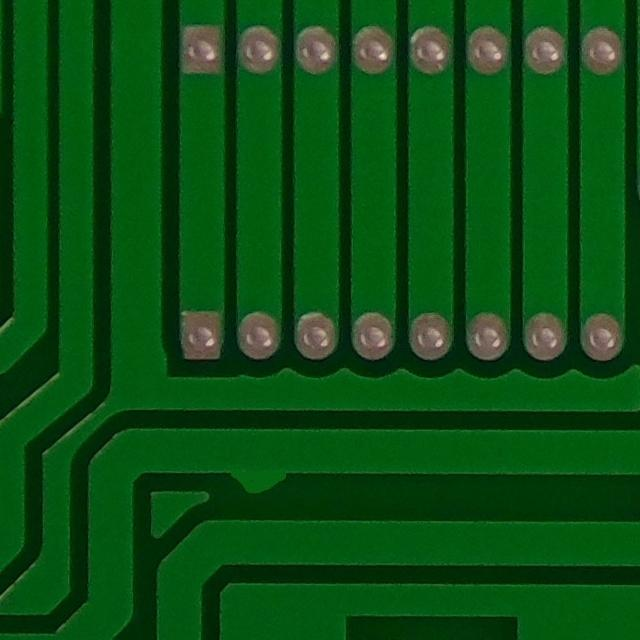spur: (217, 448, 306, 511)
